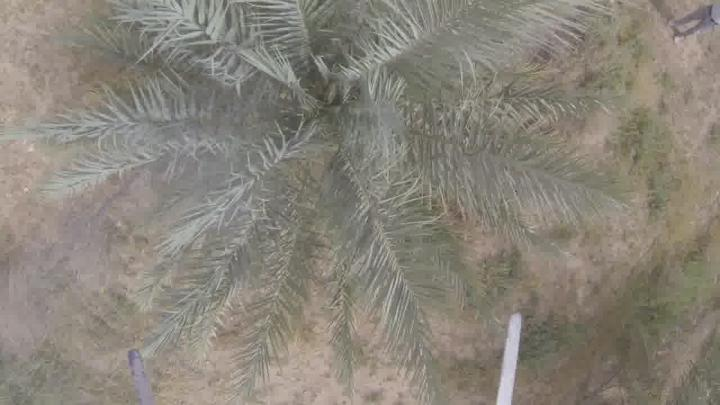Date-Palm-Crown: (148, 0, 483, 266)
